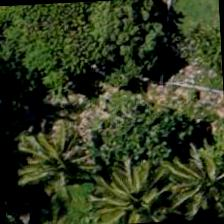Kelapa_Sawit: (13, 111, 108, 206), (88, 143, 183, 223), (164, 139, 223, 222)
